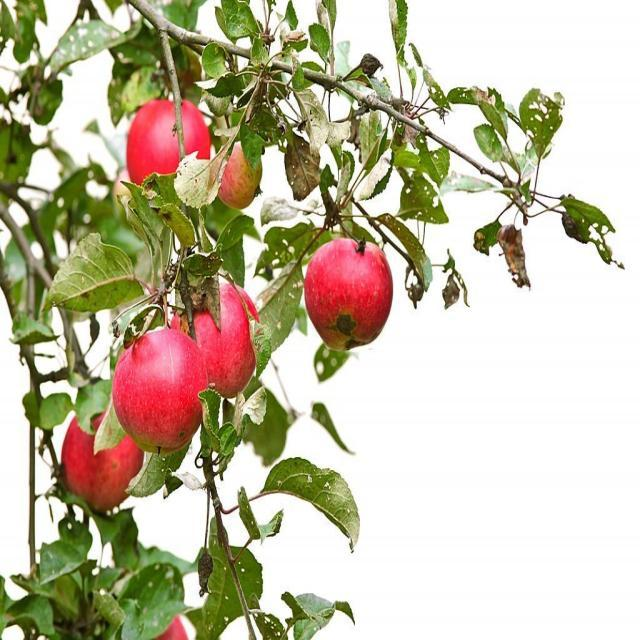Red Apple: (119, 329, 212, 446), (173, 283, 267, 398), (304, 236, 394, 352), (129, 90, 214, 202), (67, 402, 146, 502), (215, 124, 266, 207), (151, 612, 196, 640)
